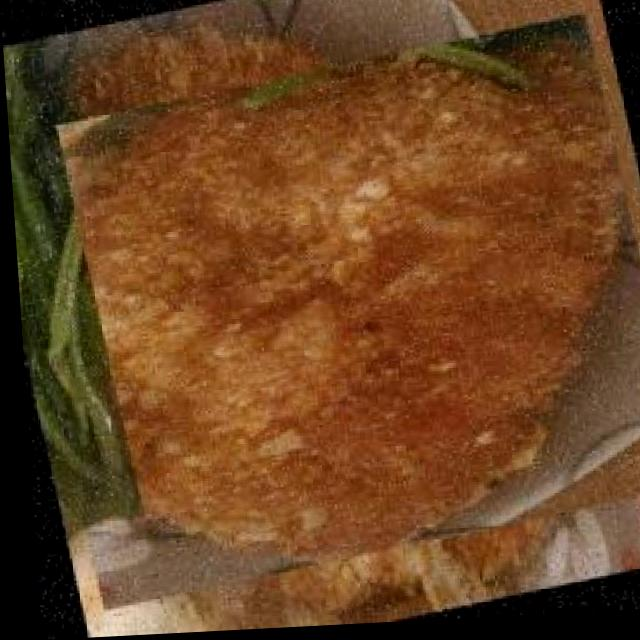fried_chicken: (14, 0, 640, 637)
water_spinach: (2, 39, 138, 536)
